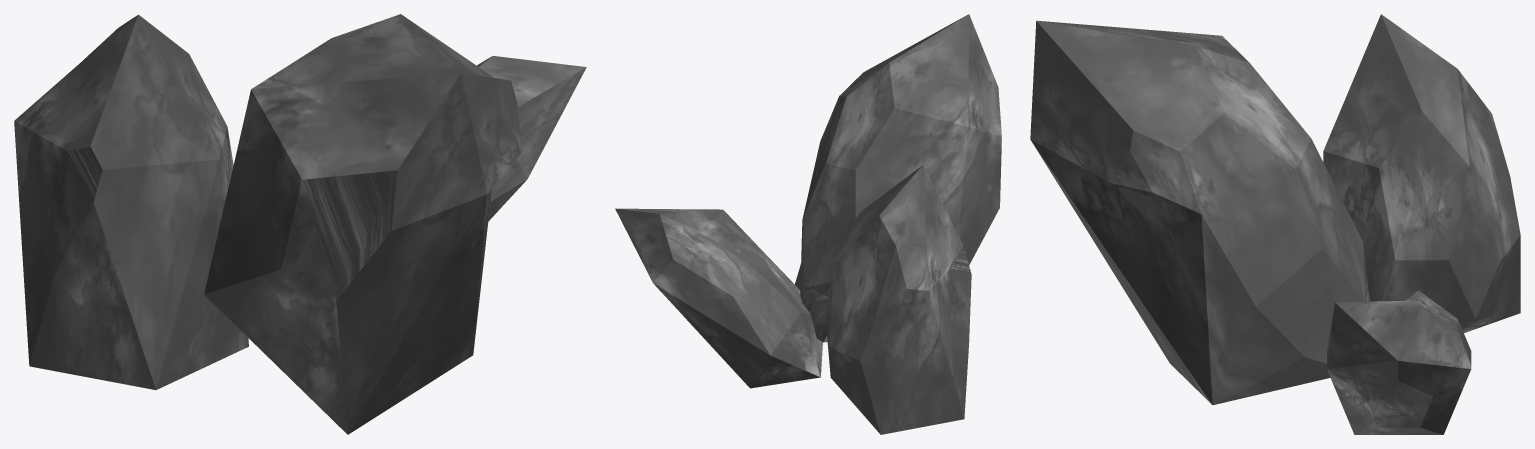
The model's file is rpgRock.glb.
3 renders of one model, left to right at view 1: azimuth 30°, elevation 25°; view 2: azimuth 150°, elevation 25°; view 3: azimuth 270°, elevation 25°, orthographic. The views are drawn at different scales.
Visible parts, largest first — view 1: Icosphere, Icosphere.001, Icosphere.002; view 2: Icosphere, Icosphere.001, Icosphere.002; view 3: Icosphere, Icosphere.001, Icosphere.002.
Boxes of the visible parts, bbox=[...] form: Icosphere: bbox=[204, 14, 521, 434]; Icosphere.001: bbox=[14, 14, 248, 389]; Icosphere.002: bbox=[477, 56, 586, 221]; Icosphere: bbox=[795, 14, 1001, 342]; Icosphere.001: bbox=[825, 165, 971, 434]; Icosphere.002: bbox=[615, 208, 822, 388]; Icosphere: bbox=[1030, 20, 1369, 405]; Icosphere.001: bbox=[1323, 14, 1520, 332]; Icosphere.002: bbox=[1327, 290, 1471, 434].
Bounding box in the file's own units: 0.5873 × 0.4507 × 0.5222.
1 material, 1 textured.
